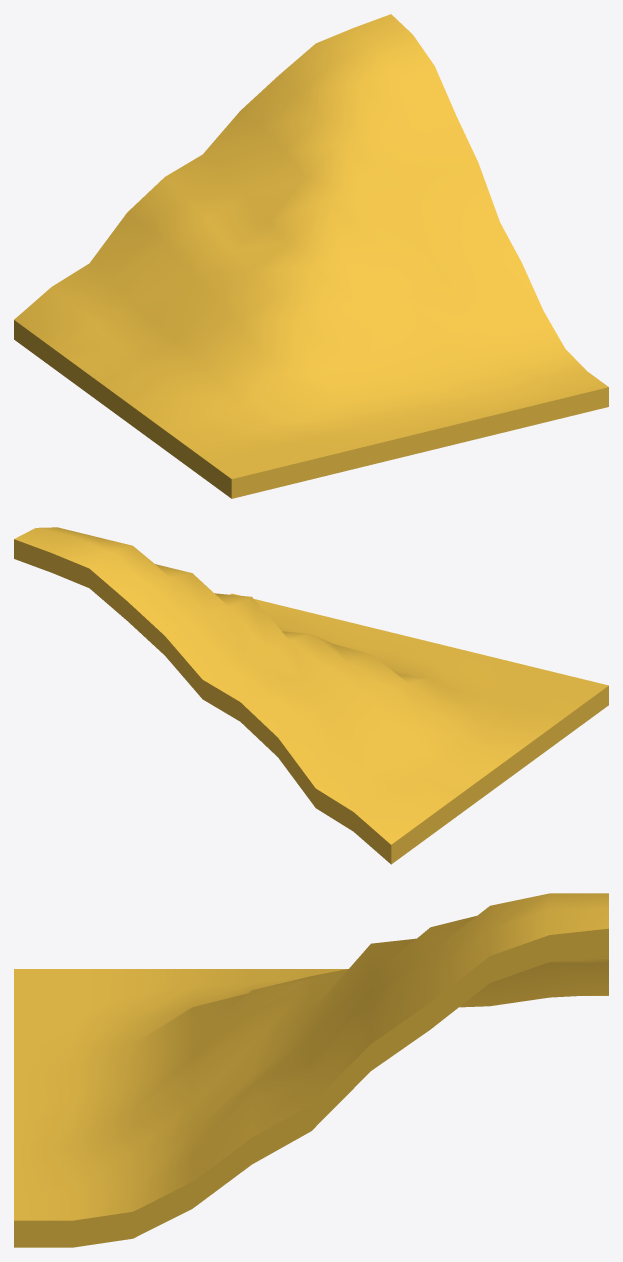
The model's file is Steil - Unten - Ecke b - a.fbx.
3 renders of one model, top to bottom at view 1: azimuth 30°, elevation 25°; view 2: azimuth 150°, elevation 25°; view 3: azimuth 270°, elevation 25°, orthographic. The views are drawn at different scales.
Parts seen in each view (by area): view 1: Steil - Unten - Ecke b - a; view 2: Steil - Unten - Ecke b - a; view 3: Steil - Unten - Ecke b - a.
Boxes of the visible parts, box(x1,y1,x2,y2) form: Steil - Unten - Ecke b - a: box(14, 14, 608, 498); Steil - Unten - Ecke b - a: box(14, 527, 608, 864); Steil - Unten - Ecke b - a: box(14, 893, 608, 1247).
Size of the model in its own units: 394 by 233 by 394.
